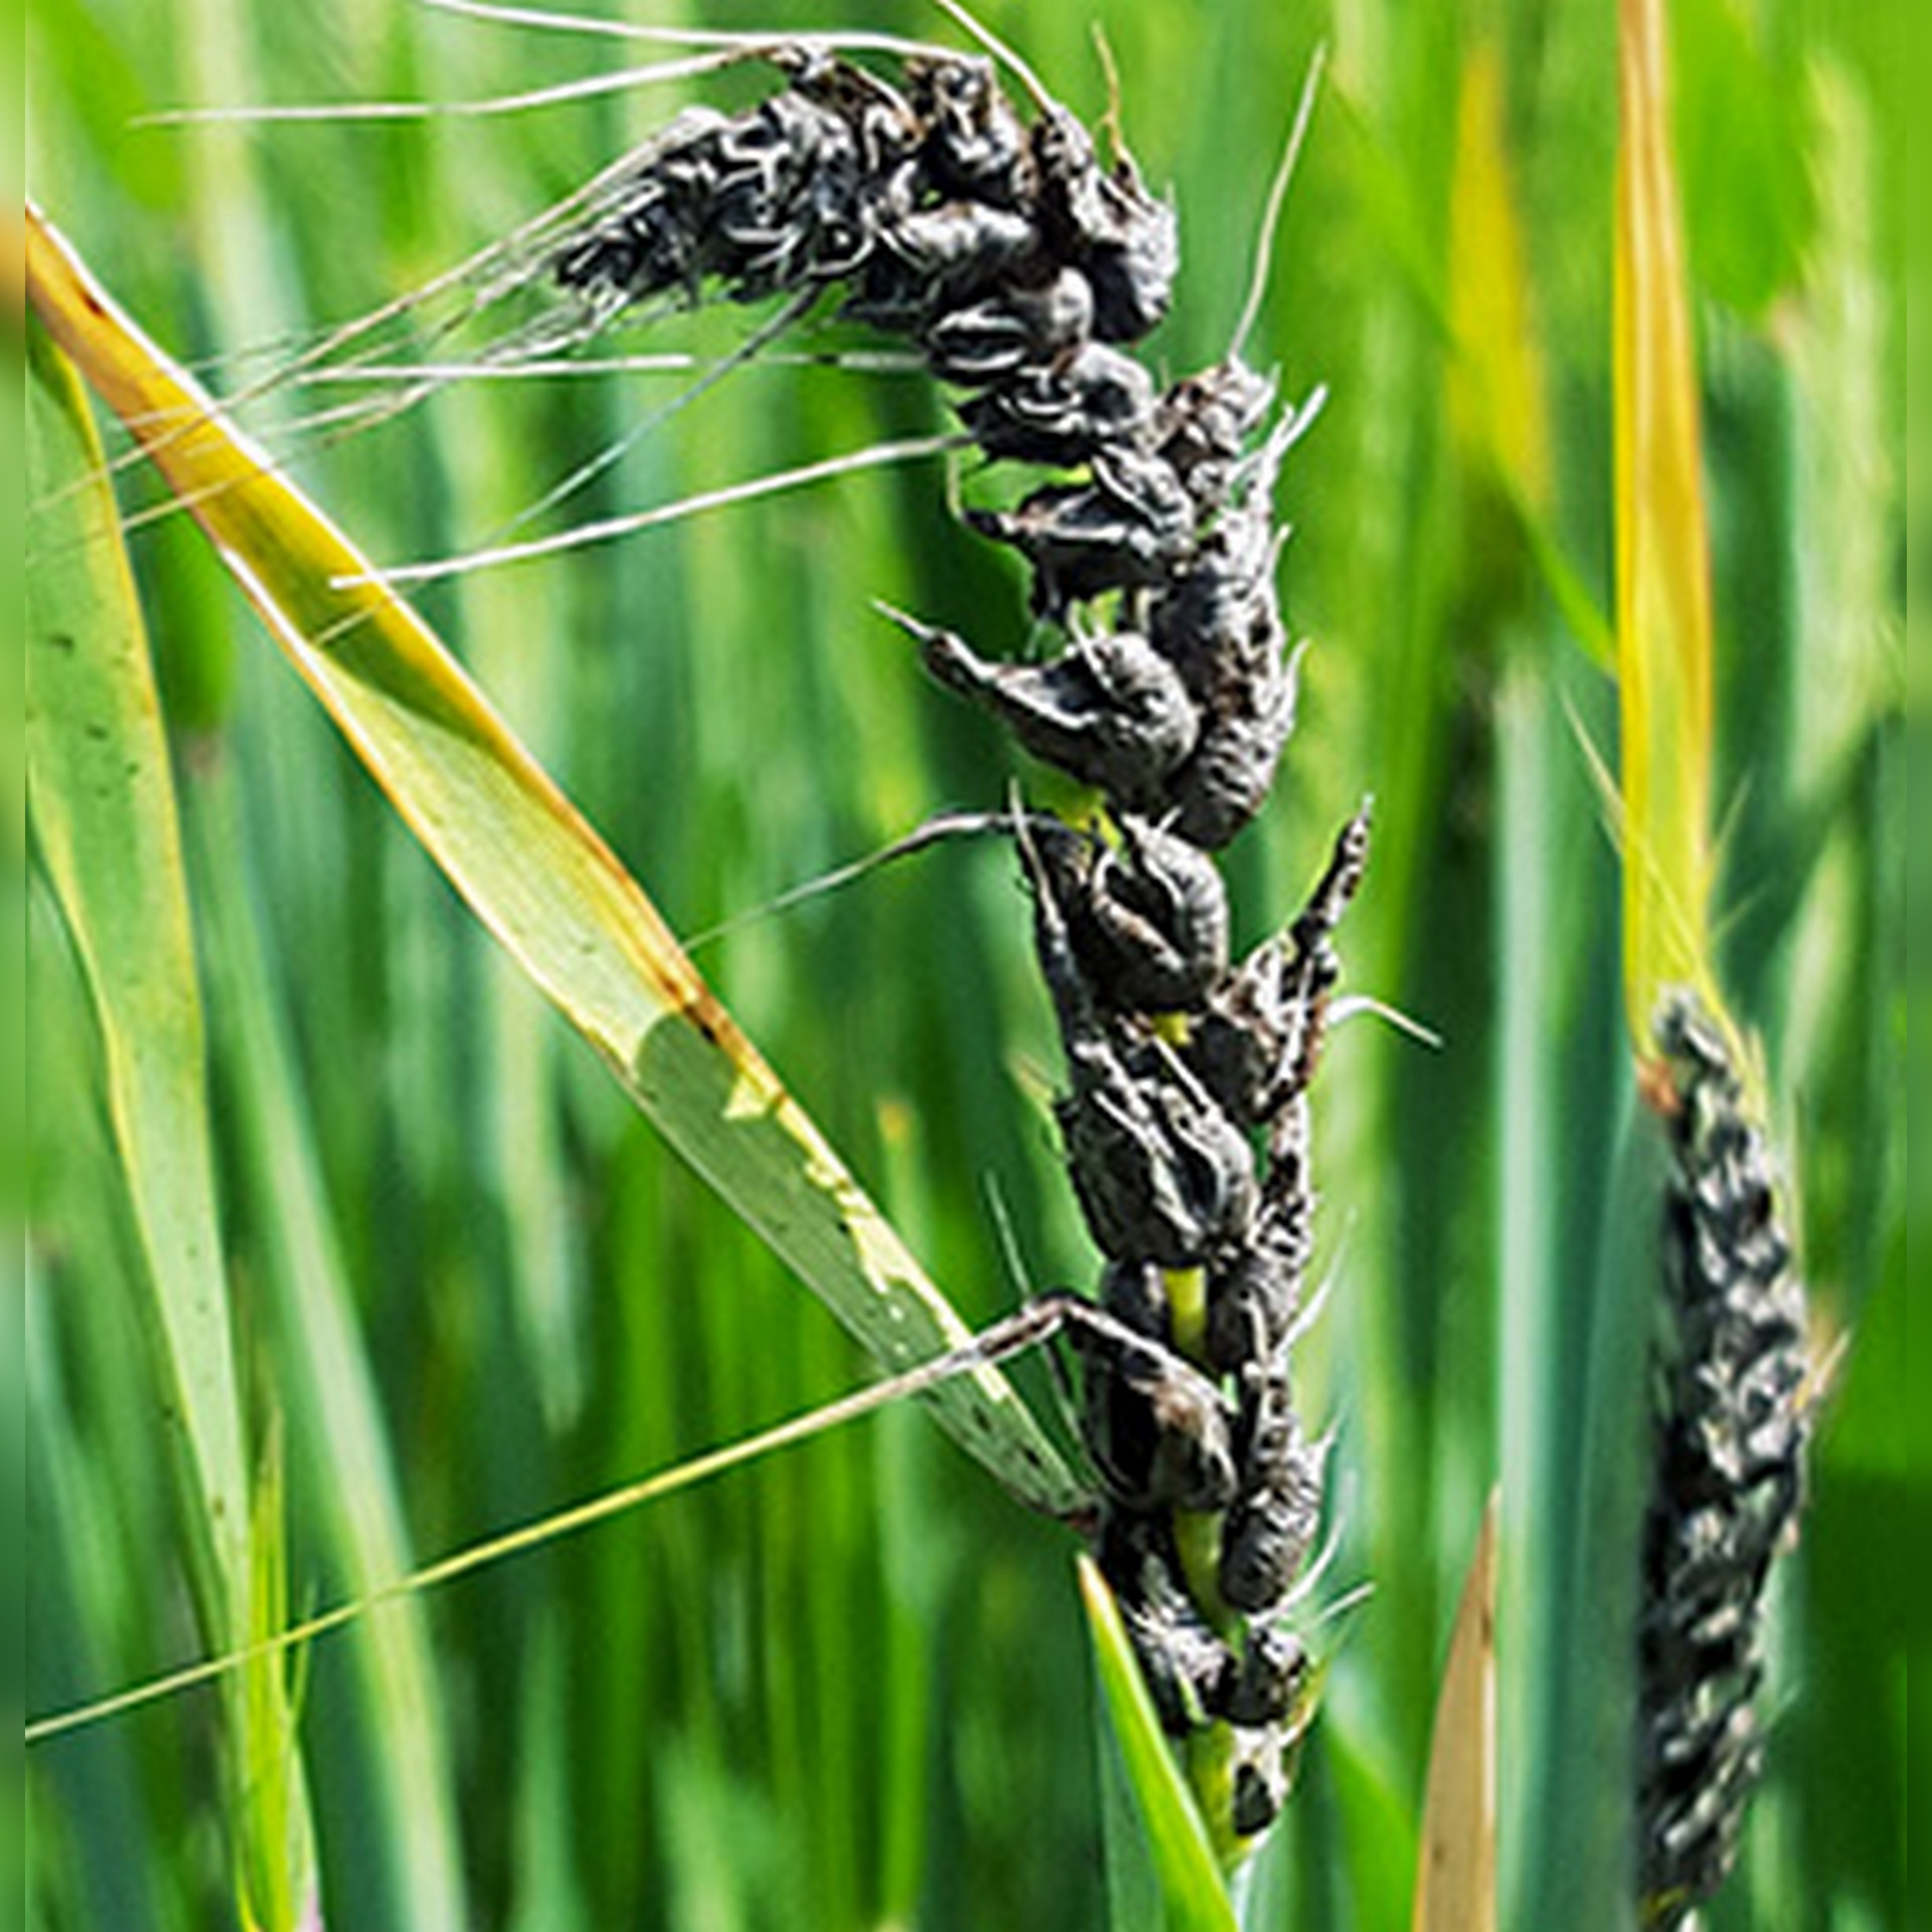Wheat Loose Smut: (416, 32, 1412, 1743)
